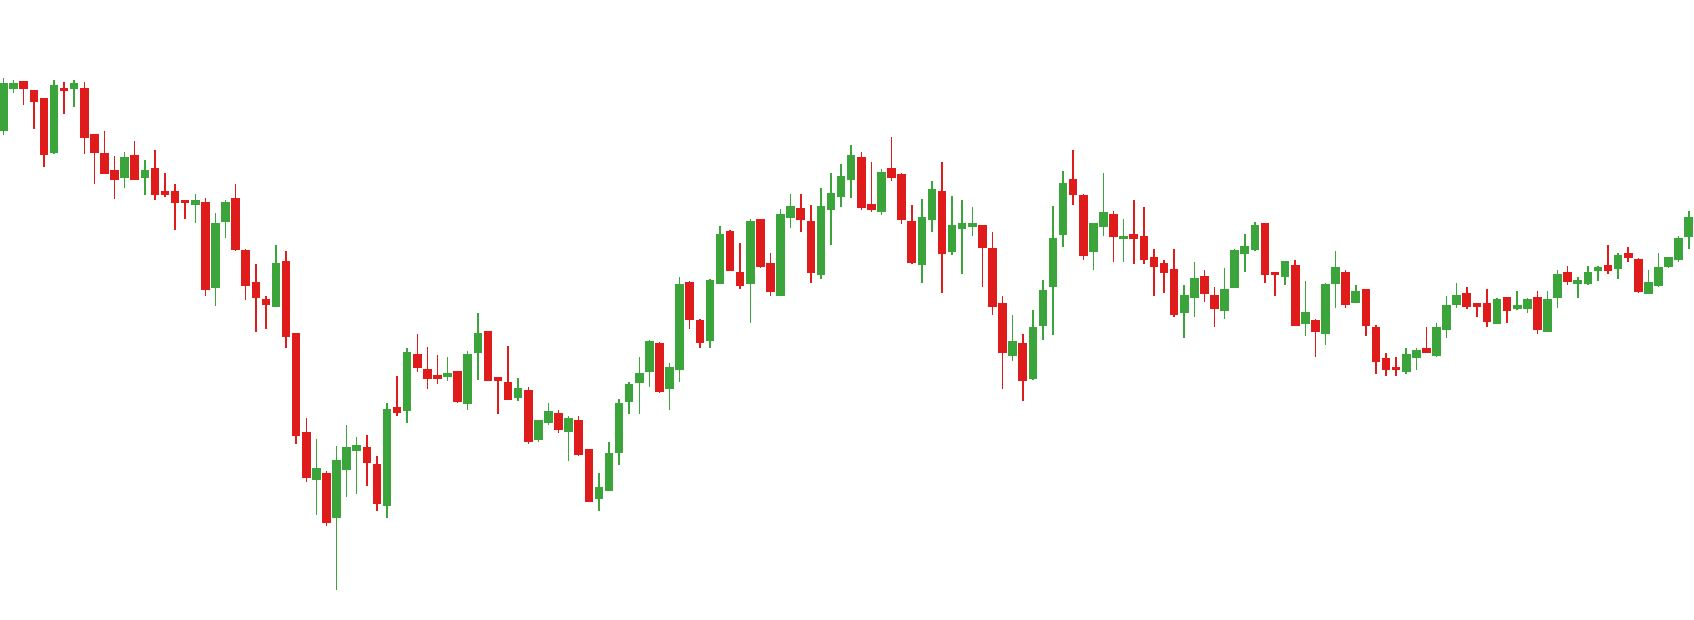sell: (936, 143, 1083, 277), (1168, 216, 1272, 305)
